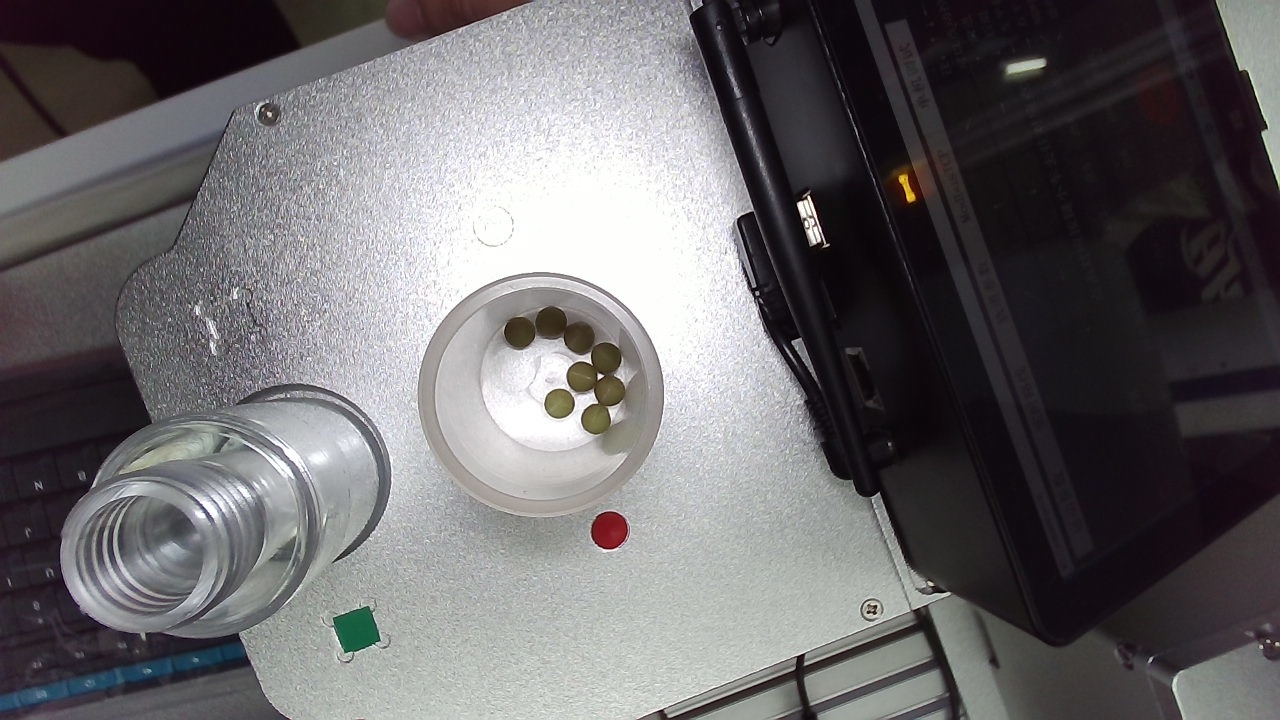XLabel: (597, 86, 666, 156)
YLabel: (1023, 104, 1087, 177)
none: (909, 239, 1223, 569)
whiteempty: (416, 183, 808, 566)
